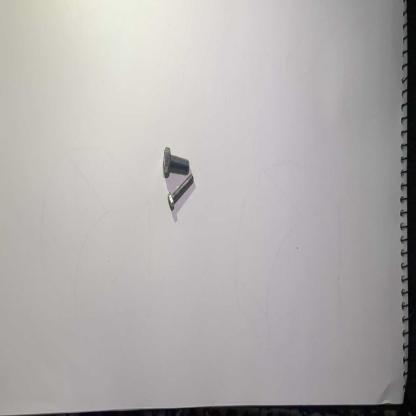Bolts: (166, 173, 196, 215), (161, 146, 191, 177)
